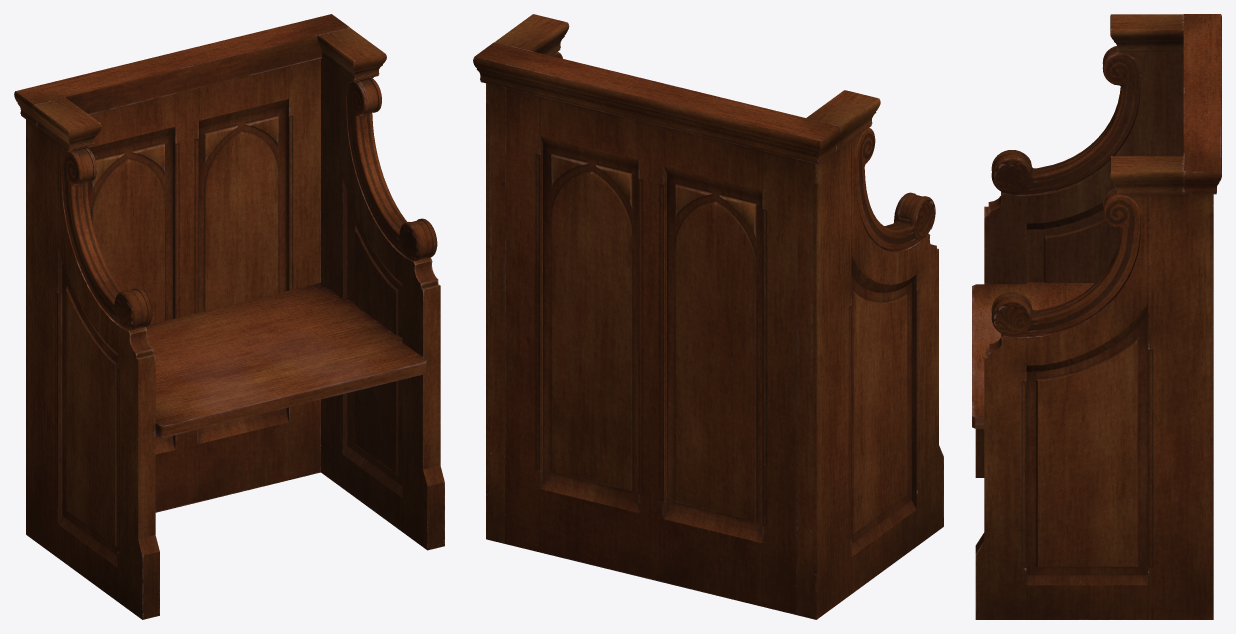
The model's file is seat.glb.
The picture shows the model from 3 angles, left to right: view 1: azimuth 30°, elevation 25°; view 2: azimuth 150°, elevation 25°; view 3: azimuth 270°, elevation 25°; orthographic projection. The views are drawn at different scales.
Visible parts, largest first — view 1: SM_bench; view 2: SM_bench; view 3: SM_bench.
Part boxes in pixels (bbox=[...]): SM_bench: bbox=[14, 14, 444, 619]; SM_bench: bbox=[473, 14, 943, 619]; SM_bench: bbox=[972, 14, 1221, 619].
Bounding box in the file's own units: 0.7376 × 0.979 × 0.4908.
1 material, 1 textured.
